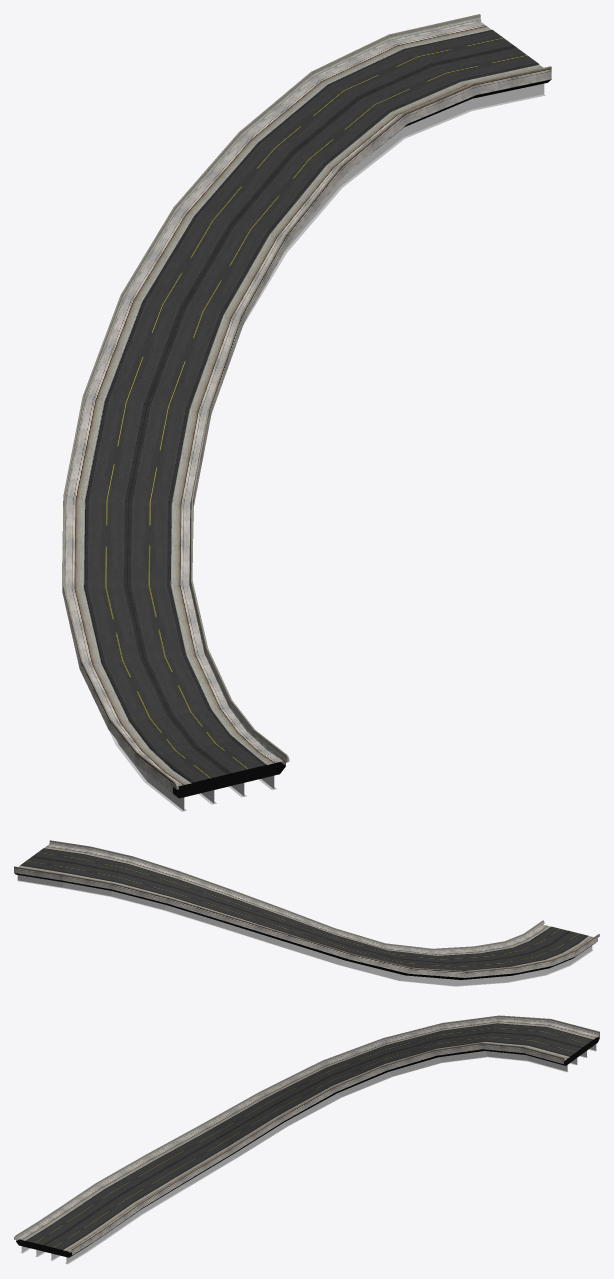
The model's file is Bridge-RampHLB.FBX.
The picture shows the model from 3 angles, top to bottom: view 1: azimuth 30°, elevation 25°; view 2: azimuth 150°, elevation 25°; view 3: azimuth 330°, elevation 25°; orthographic projection. The views are drawn at different scales.
Visible parts, largest first — view 1: Bridge-RampHL; view 2: Bridge-RampHL; view 3: Bridge-RampHL.
Boxes of the visible parts, box(x1,y1,x2,y2) form: Bridge-RampHL: box(62, 14, 551, 811); Bridge-RampHL: box(14, 840, 599, 986); Bridge-RampHL: box(14, 1015, 599, 1264).
Bounding box in the file's own units: 5405 × 2179 × 5515.
